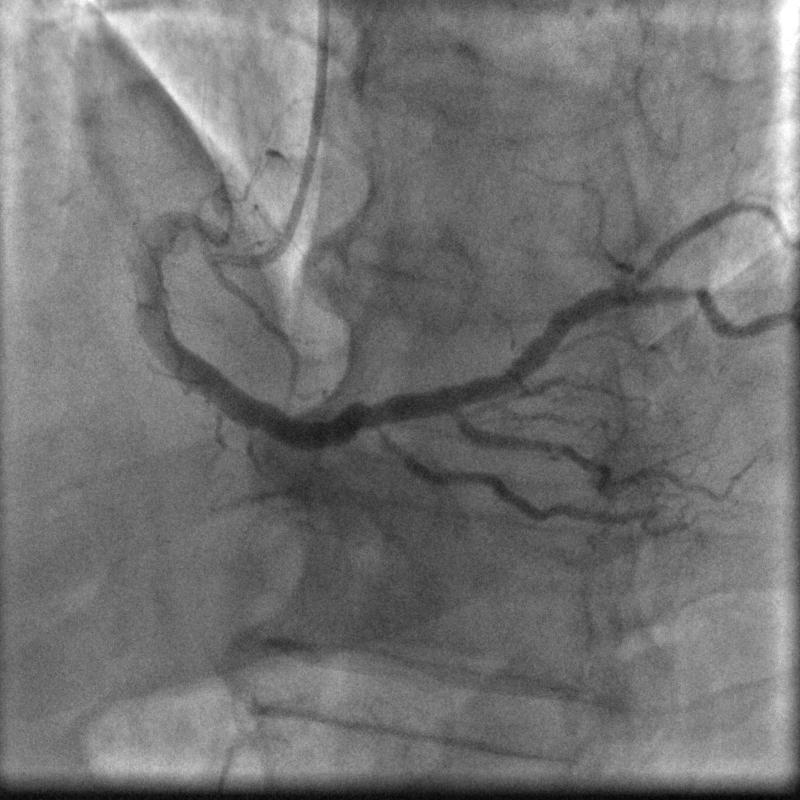Stenosis: (635, 278, 711, 306)
